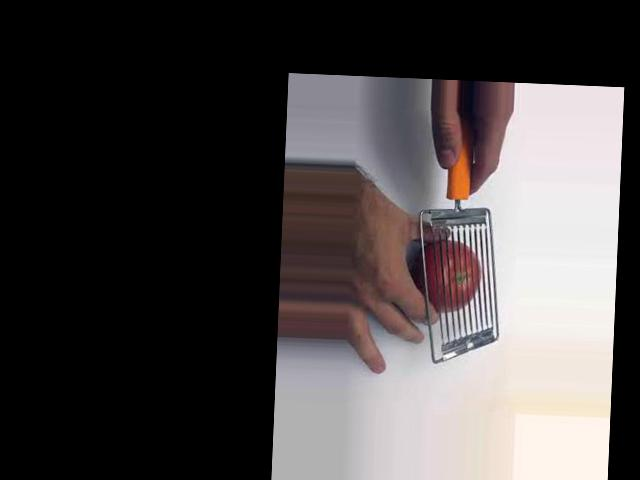tomato: (412, 237, 481, 311)
